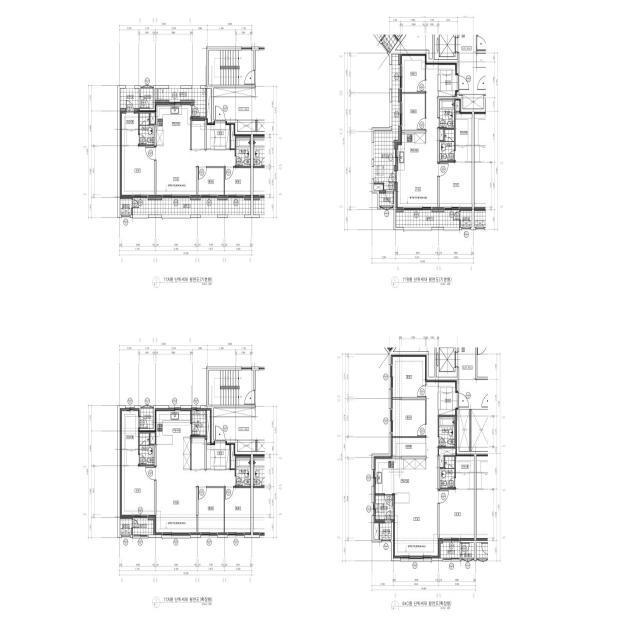space_balconi: (374, 54, 400, 190), (133, 198, 251, 215), (155, 89, 206, 117), (396, 210, 460, 227), (398, 133, 426, 170), (374, 495, 394, 522), (120, 88, 139, 111), (133, 518, 153, 535), (192, 411, 206, 435), (441, 541, 460, 558)
space_bedroom: (120, 146, 154, 197), (440, 490, 474, 541), (122, 466, 154, 515), (440, 162, 472, 209), (391, 355, 426, 397), (391, 400, 425, 436), (198, 488, 224, 532), (225, 488, 251, 532), (400, 54, 425, 92), (400, 94, 425, 130), (225, 168, 251, 197), (198, 168, 224, 197)
space_dressroom: (122, 411, 138, 466), (120, 111, 138, 145), (456, 454, 474, 488), (456, 112, 472, 145), (456, 146, 472, 161)
space_elevator: (435, 34, 457, 59)
space_elevator_hall: (459, 347, 488, 409), (459, 35, 476, 94), (214, 97, 256, 120), (214, 417, 255, 440)
space_front: (207, 121, 230, 150), (438, 391, 458, 415), (214, 441, 230, 470), (438, 73, 458, 96)
space_kitchen: (374, 456, 426, 507), (156, 411, 191, 470), (156, 103, 190, 150)
space_living_room: (393, 380, 440, 558), (396, 63, 438, 209), (156, 470, 235, 533), (156, 150, 235, 197)
space_other: (471, 409, 488, 451), (391, 438, 426, 456), (190, 118, 205, 150), (459, 409, 469, 451), (192, 437, 205, 469), (459, 95, 486, 109), (214, 88, 255, 97), (214, 408, 255, 417), (439, 448, 456, 467), (140, 409, 153, 428), (141, 88, 153, 108), (439, 380, 457, 393), (460, 543, 474, 558), (237, 120, 255, 131), (237, 440, 255, 451), (379, 193, 394, 206), (439, 63, 457, 73), (207, 445, 214, 469), (207, 88, 211, 123), (207, 410, 210, 443), (231, 445, 235, 468), (231, 125, 235, 148), (374, 523, 379, 539), (455, 99, 461, 111), (150, 113, 155, 124), (150, 433, 155, 444), (374, 184, 383, 190), (440, 129, 443, 140)
space_outdoor_room: (380, 522, 391, 539), (120, 199, 131, 215), (461, 211, 472, 227), (120, 519, 131, 535)
space_staircase: (209, 370, 254, 405), (209, 50, 253, 85)
space_toilet: (439, 416, 455, 447), (139, 113, 154, 145), (440, 456, 455, 488), (139, 433, 154, 465), (440, 129, 454, 161), (236, 137, 251, 166), (236, 457, 251, 486), (440, 99, 454, 128)
